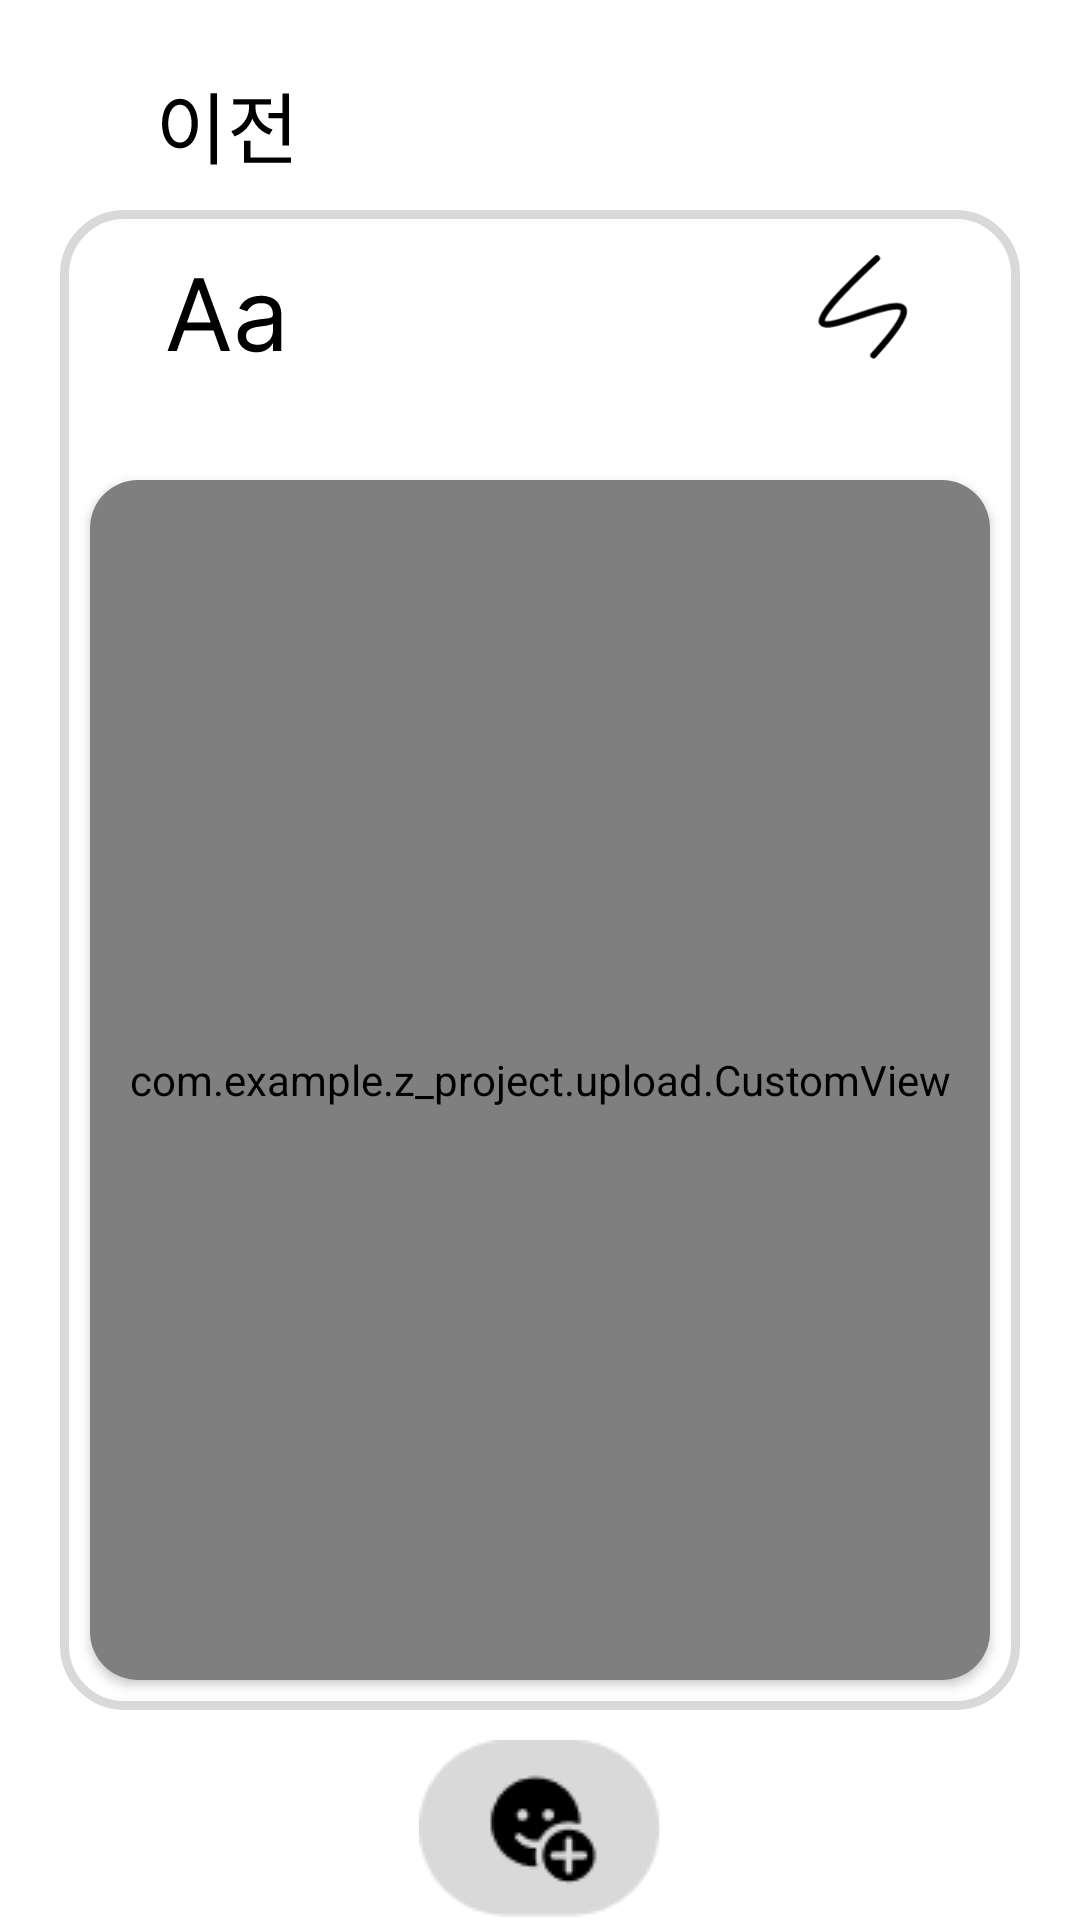

Icon click points for this 1080*1920 phone screenshot, format [x,y]:
emoji: [539,1827]
